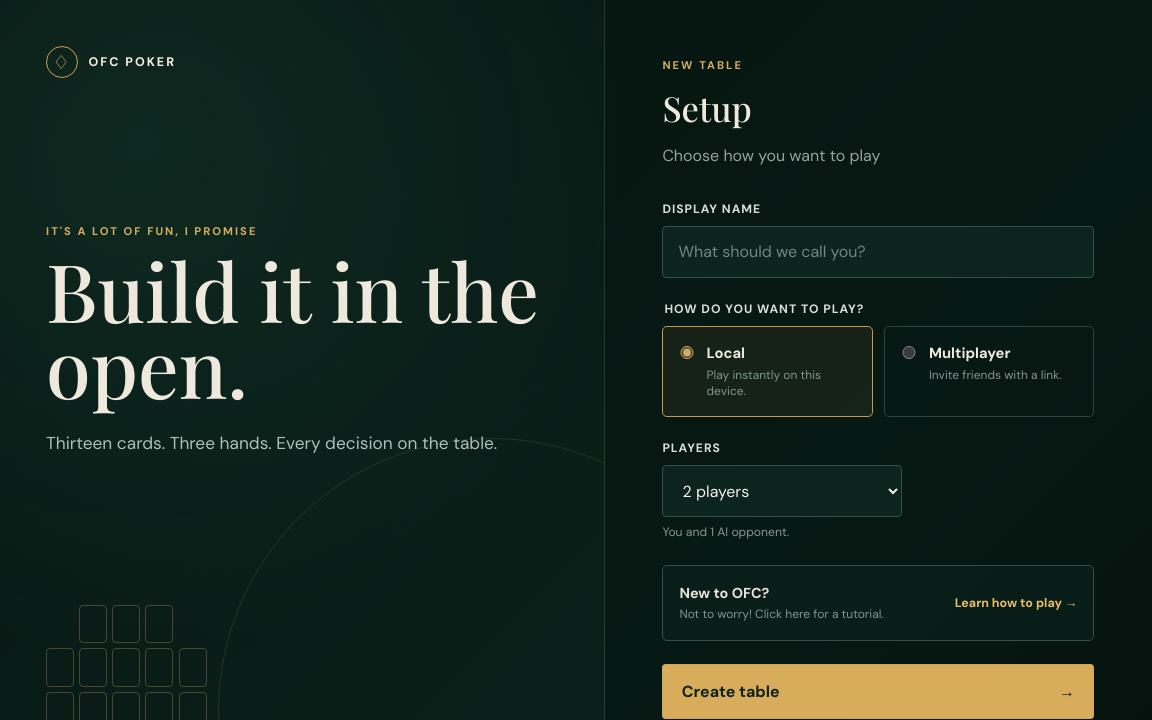
Scenario: opens the tutorial from home and returns without initializing a provider
Click the link "Learn how to play" at {"x": 724, "y": 593}, box [662,565,1094,641]
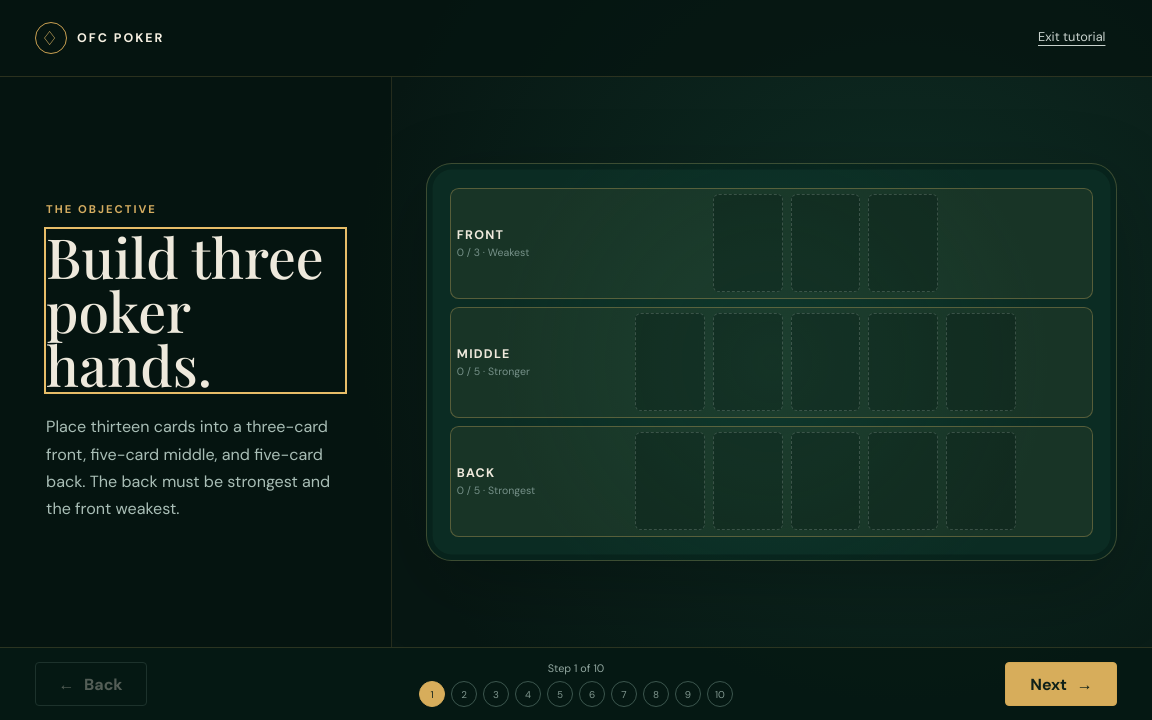
Check: the heading "Build three poker hands." is shown, box [46,229,345,392]
Click the link "Exit tutorial" at {"x": 1072, "y": 36}, box [1038,28,1106,45]
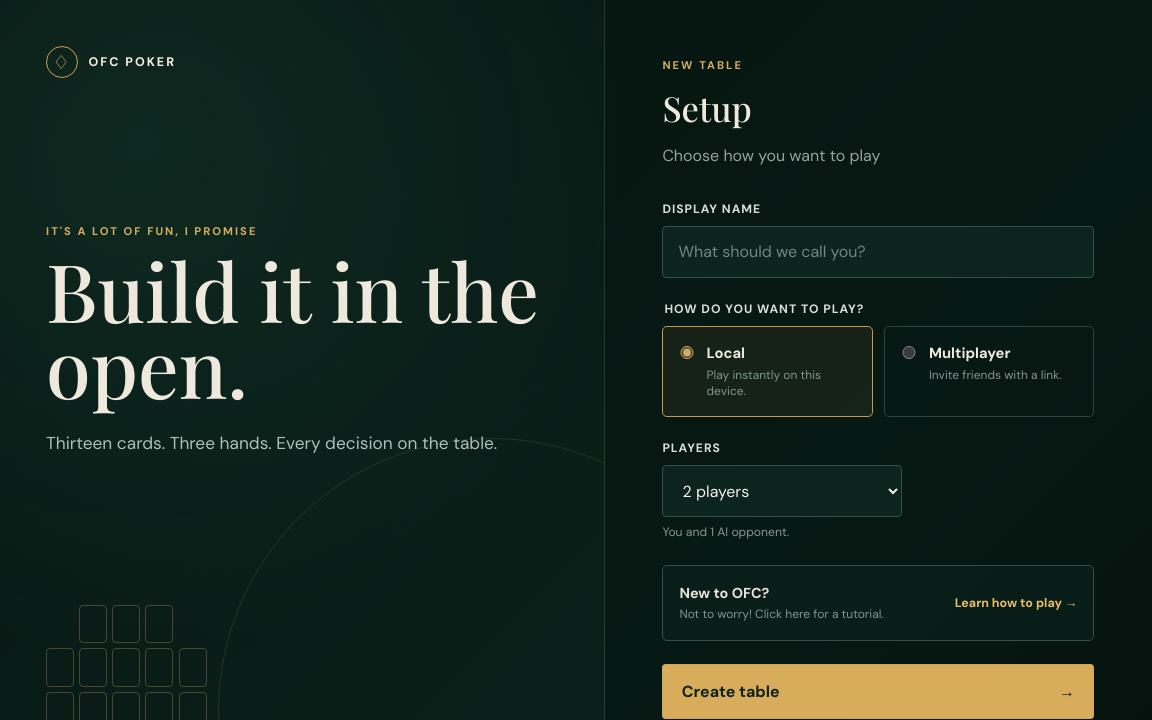
Check: the heading "Build it in the open." is shown, box [46,252,558,404]
